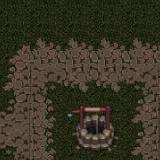Hide: (53, 88, 133, 160)
